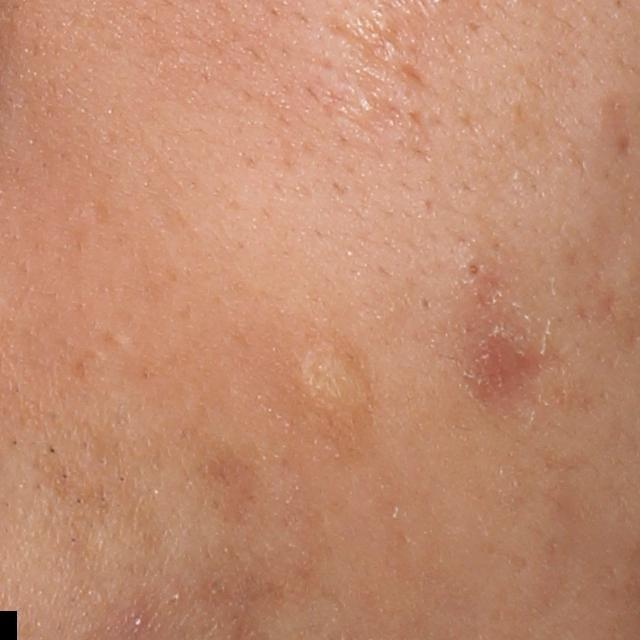other: (261, 319, 391, 441)
